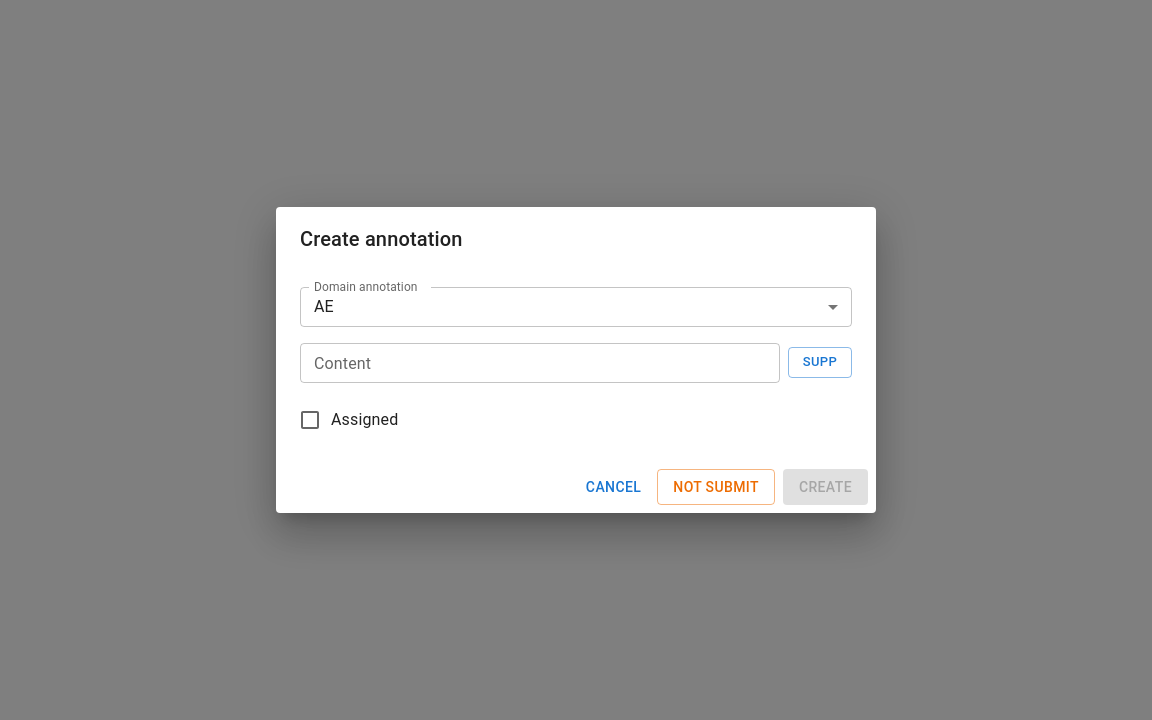
it: AnnotationDialog › SUPP replaces existing content in the field (does not append)
Type "pre-existing note" into the field labelled "Content" at (540, 363), box [300,343,780,383]
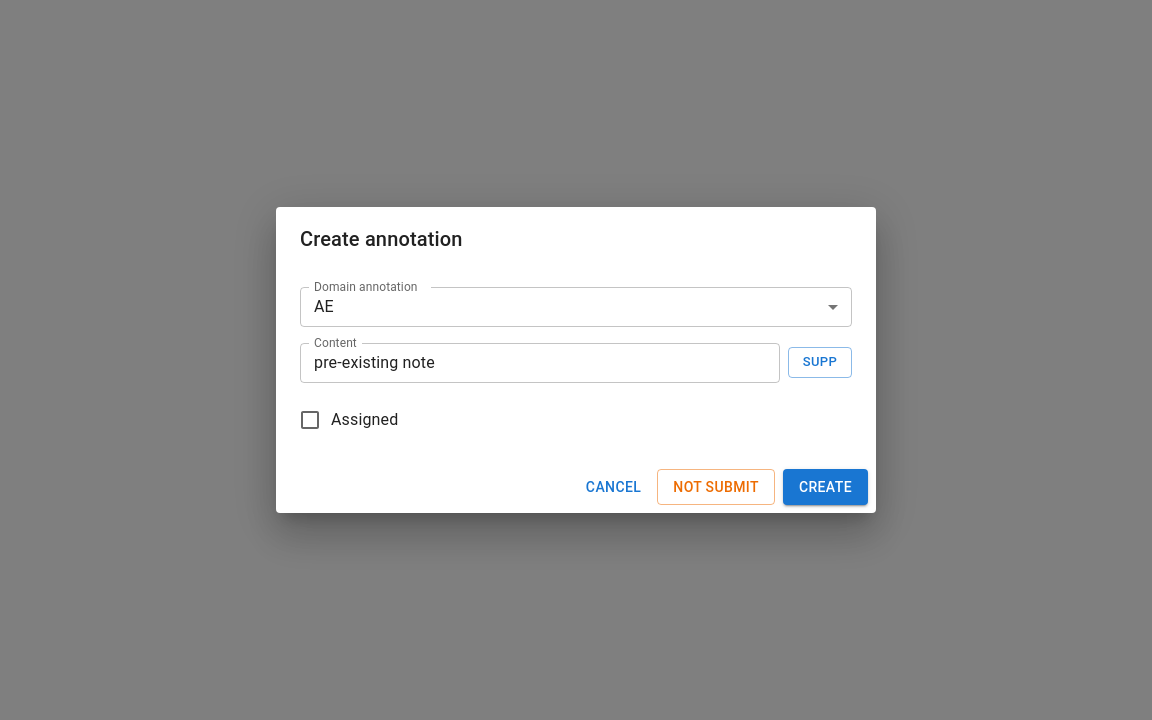
Click the button with test id "crf-annotation-dialog-supp" at (820, 363), box [788,347,852,378]
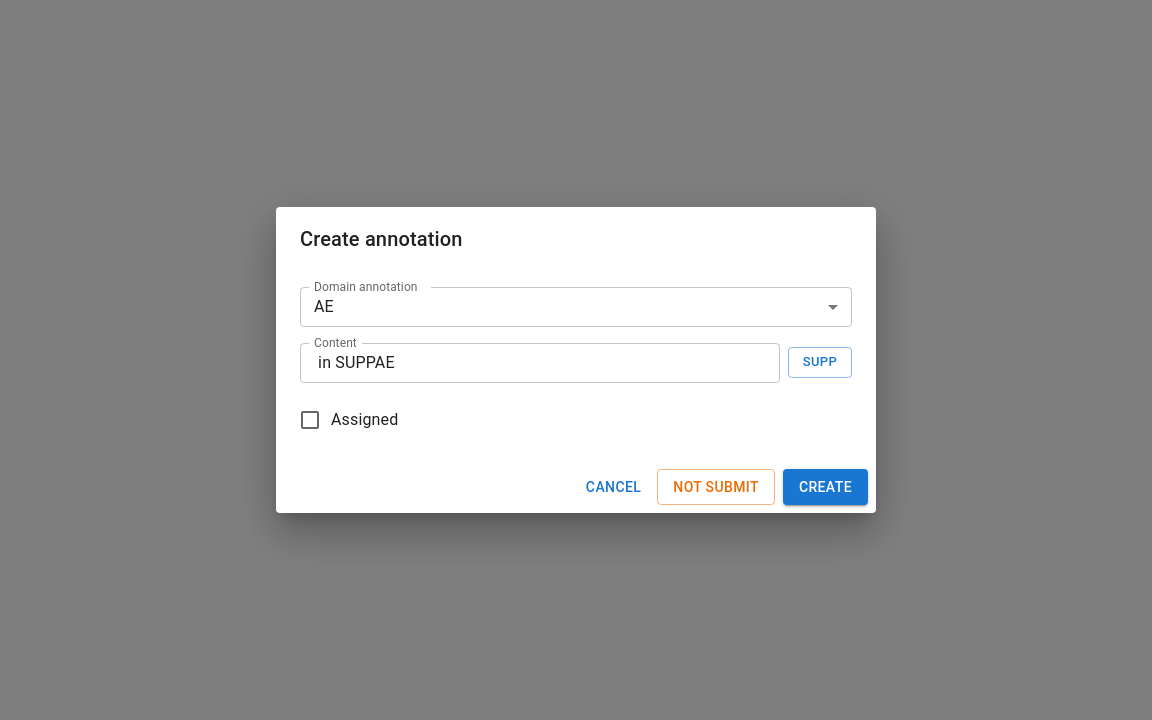
Result: the field labelled "Content" holds " in SUPPAE" at [300,343,780,383]
